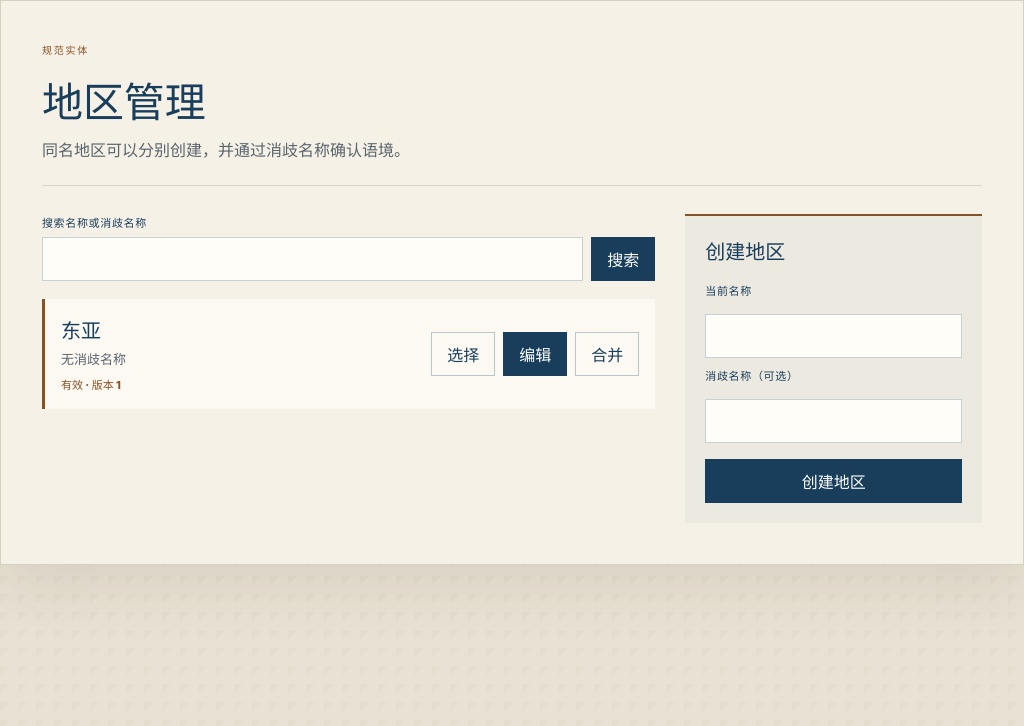
Scenario: 地区管理 › 管理员使用所见版本修改地区
Step 1. Click the button "编辑" → (535, 354), box 503,332 -> 567,376
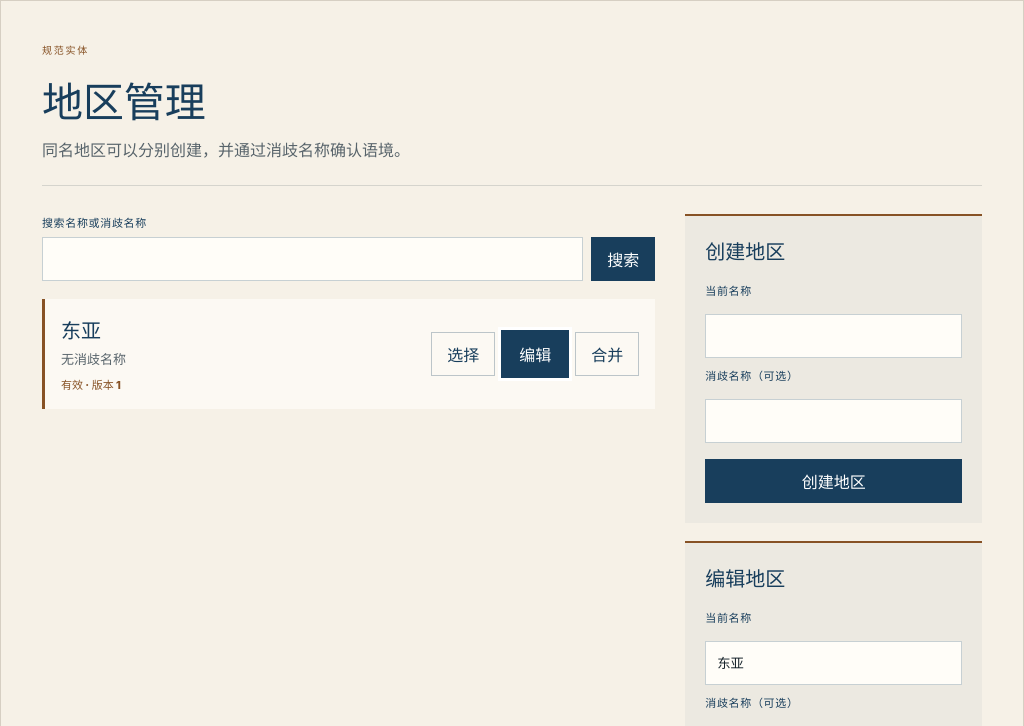
Step 2. Replace the text in the 2nd field labelled "当前名称" with "东亚地区" → (834, 663), box 705,641 -> 962,685
(page scrolled)
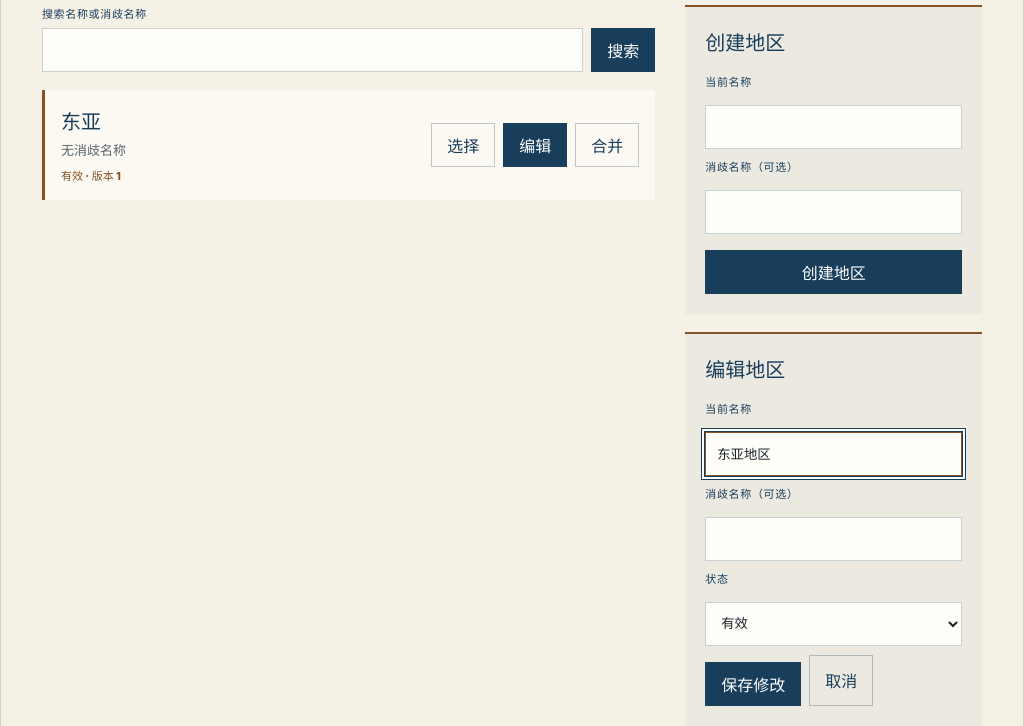
Step 3. Select "停用" in the dropdown labelled "状态" → (834, 624), box 705,602 -> 962,646
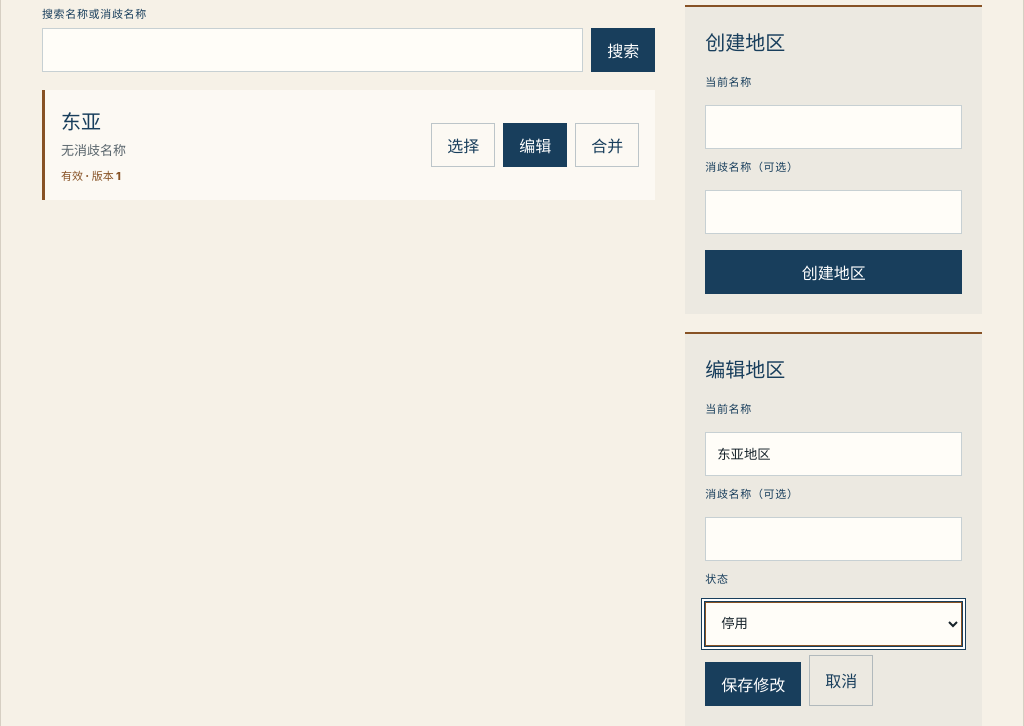
Step 4. Click the button "保存修改" → (753, 684), box 705,662 -> 801,706
(page scrolled)
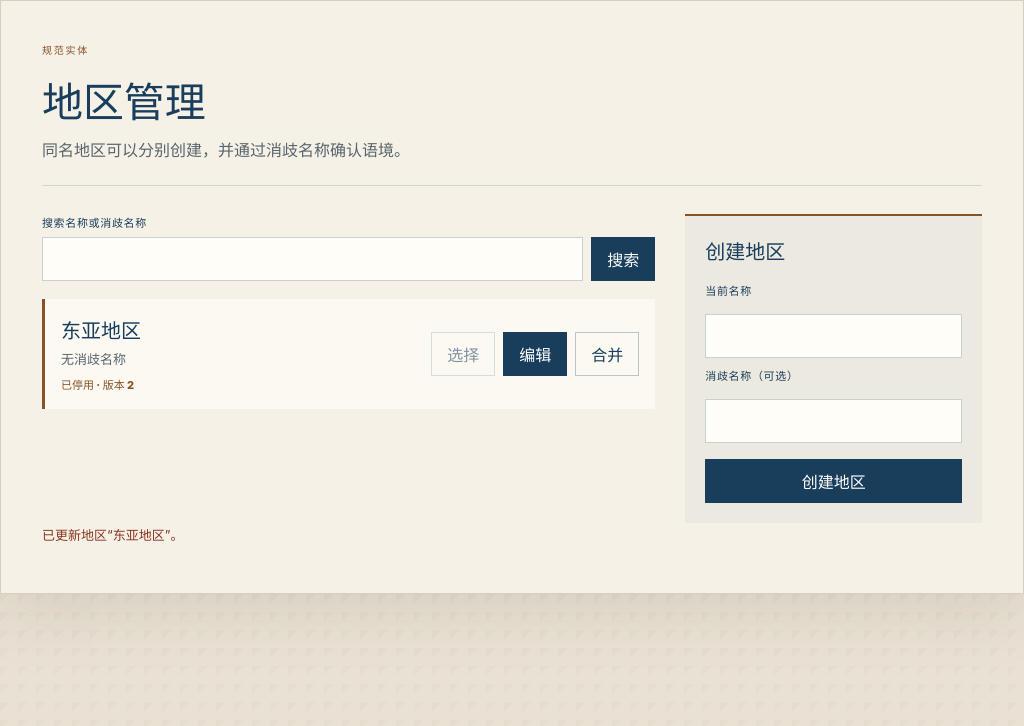
Result: the text "已更新地区“东亚地区”。" is shown at 42,527 -> 184,543
